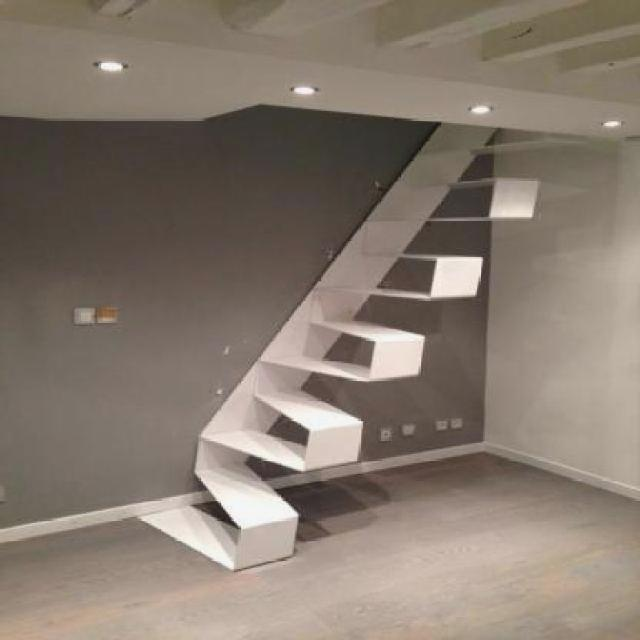stair: (135, 120, 550, 582)
